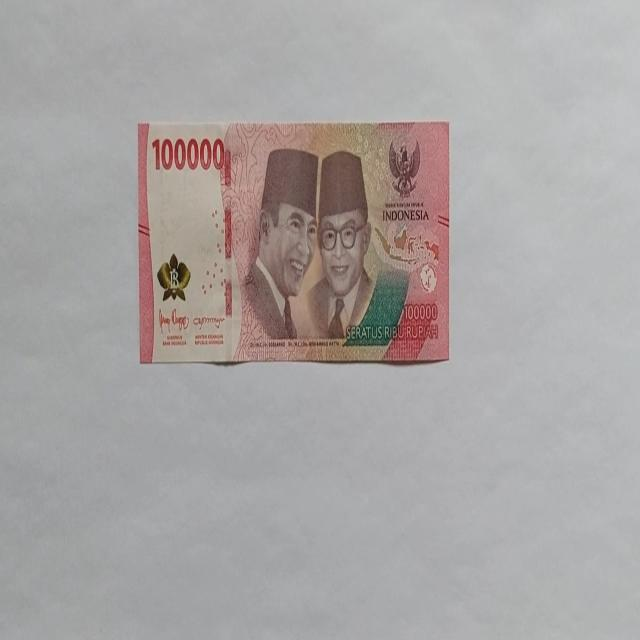seratus ribu rupiah: (137, 119, 450, 365), (240, 146, 319, 348)
